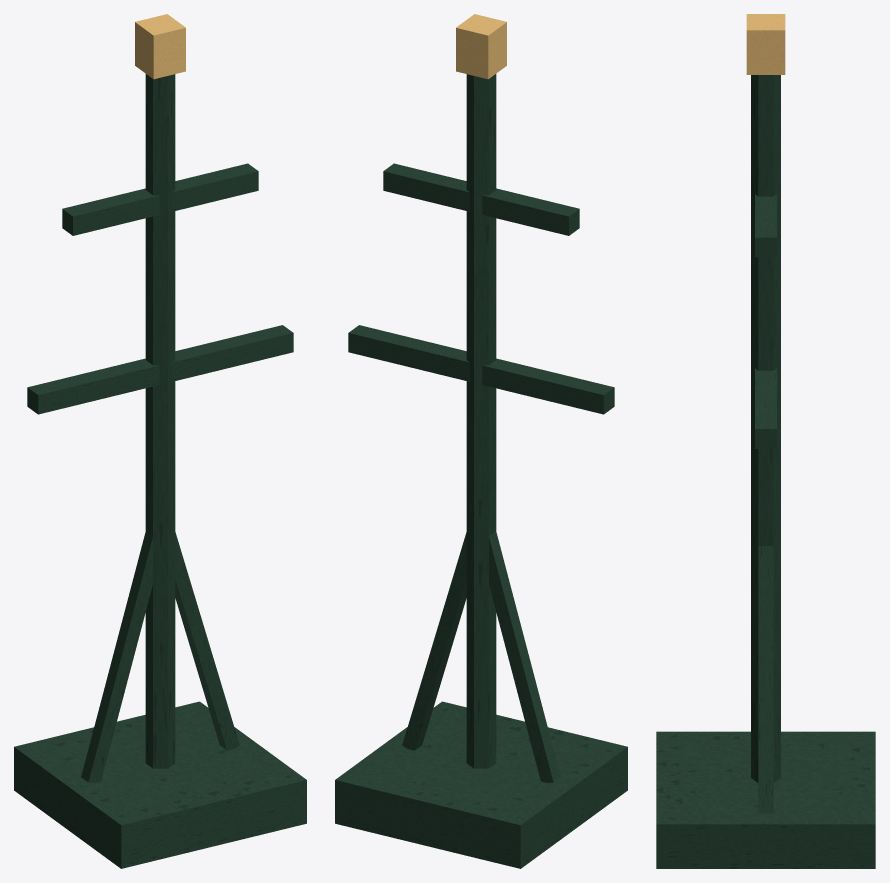
File: Antenna.fbx
3 views of the same model, side by side, from view 1: azimuth 30°, elevation 25°; view 2: azimuth 150°, elevation 25°; view 3: azimuth 270°, elevation 25° (orthographic). The views are drawn at different scales.
Visible parts, largest first — view 1: Antenna; view 2: Antenna; view 3: Antenna.
Part boxes in pixels (left/top/right/bottom): Antenna: left=14, top=14, right=306, bottom=868; Antenna: left=335, top=14, right=627, bottom=868; Antenna: left=656, top=14, right=875, bottom=868.
Size of the model in its own units: 110 by 322 by 80.
